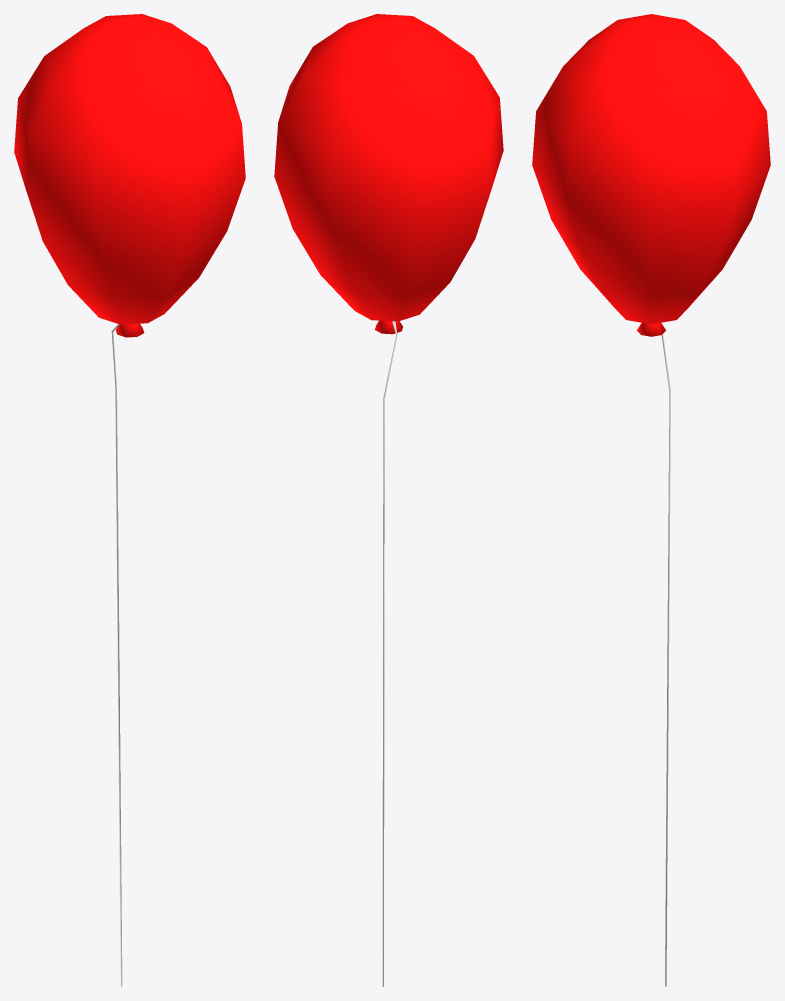
File: BalloonRed.glb
The picture shows the model from 3 angles, left to right: view 1: azimuth 30°, elevation 25°; view 2: azimuth 150°, elevation 25°; view 3: azimuth 270°, elevation 25°; orthographic projection.
Visible parts, largest first — view 1: BalloonRed; view 2: BalloonRed; view 3: BalloonRed.
Boxes of the visible parts, x1,y1,x2,y2 form: BalloonRed: (14, 14, 245, 986); BalloonRed: (274, 14, 503, 986); BalloonRed: (532, 14, 770, 986).
Size of what is drawn, in the model's own units: 0.5007 by 2.23 by 0.5007.
1 material, 1 textured.
